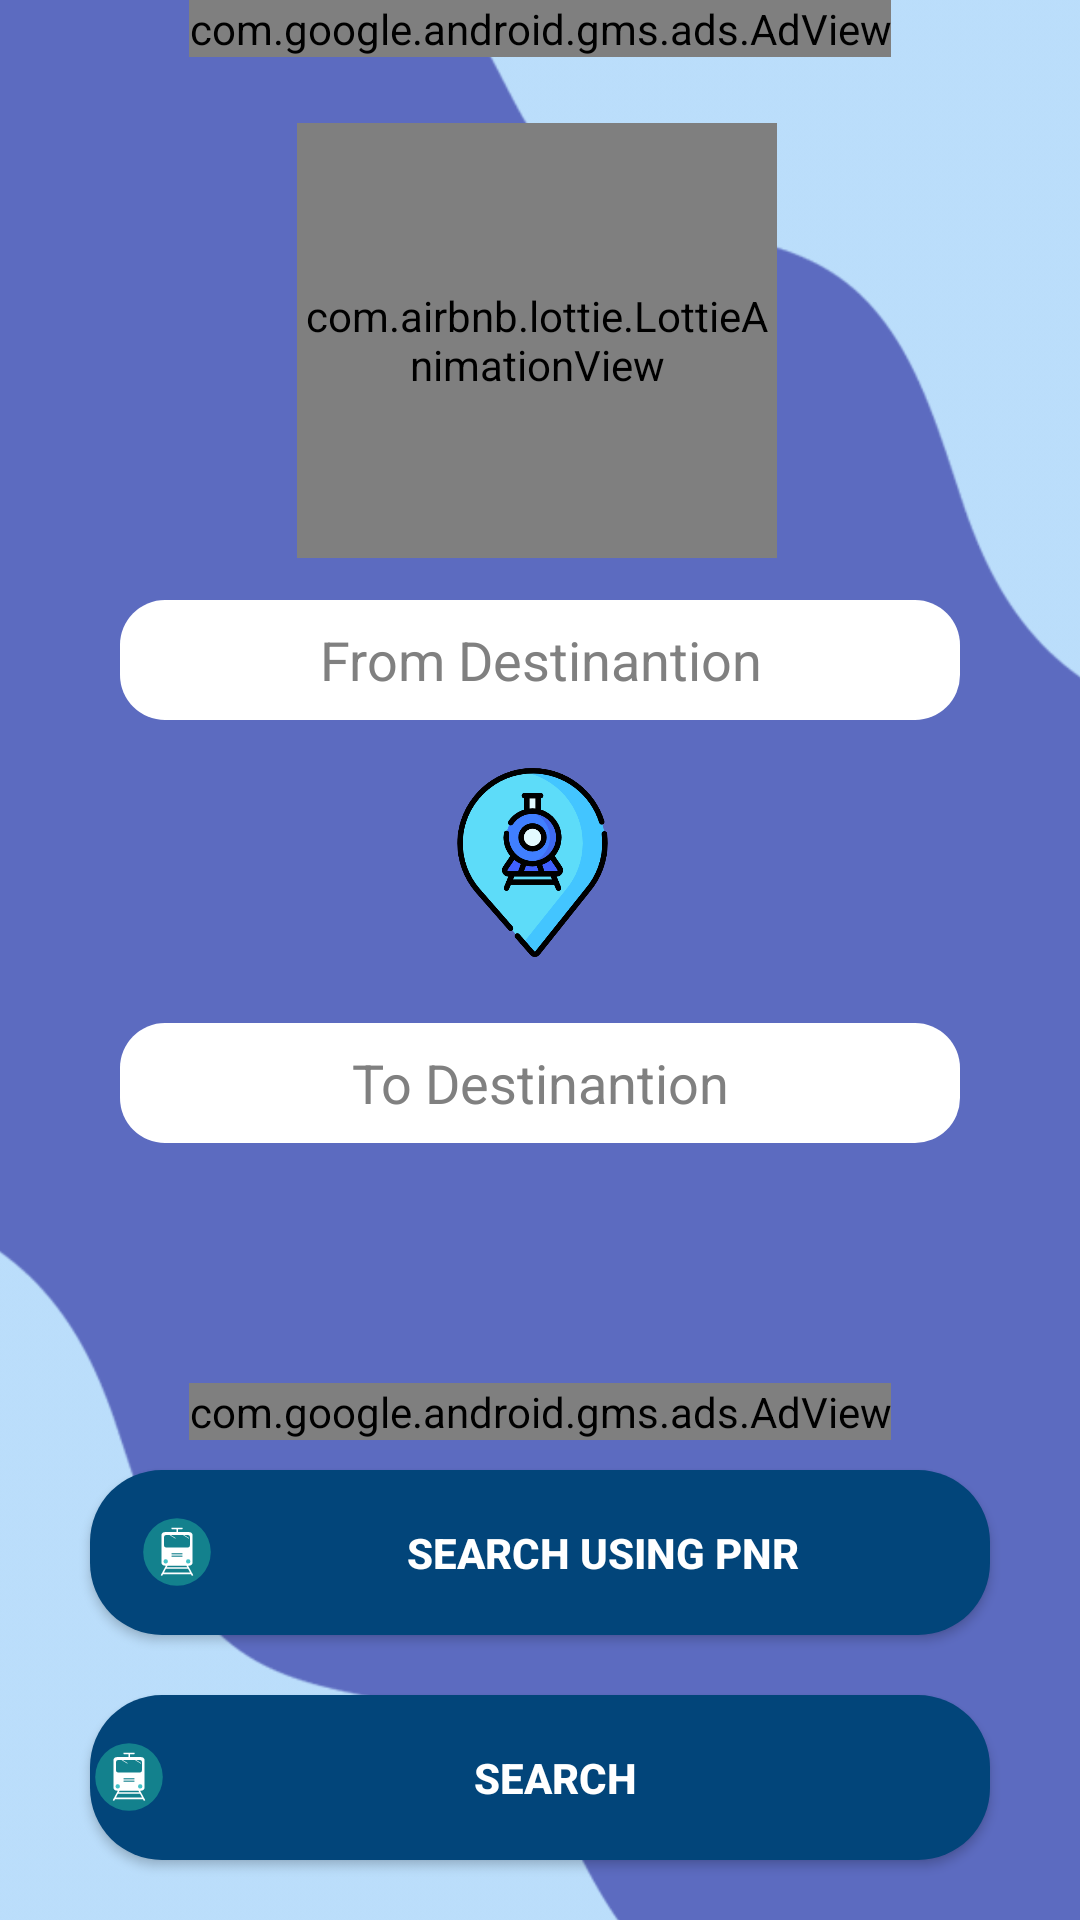

Icon click points for this 1080w x 1920h phone screenshot, format [x,y]:
trainlocation: [532,862]
